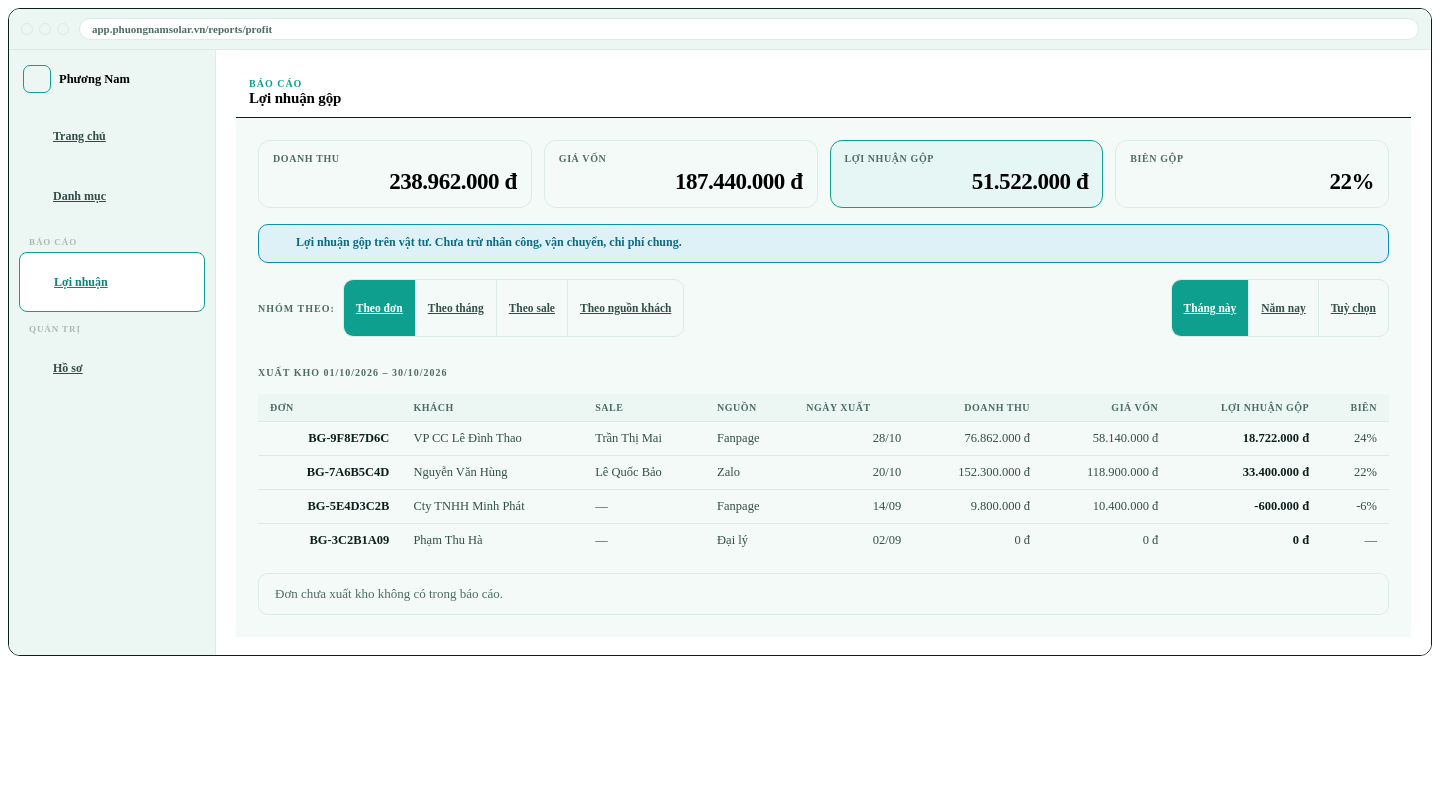
Test case: ProfitReportScreen › Năm nay sends period=year; Tuỳ chọn waits for both days then sends period=custom&from&to
Expected: the text "BG-9F8E7D6C" is shown, [258,422,401,456]
Click the link "Năm nay".
click(1284, 308)  # box [1249,280,1319,336]
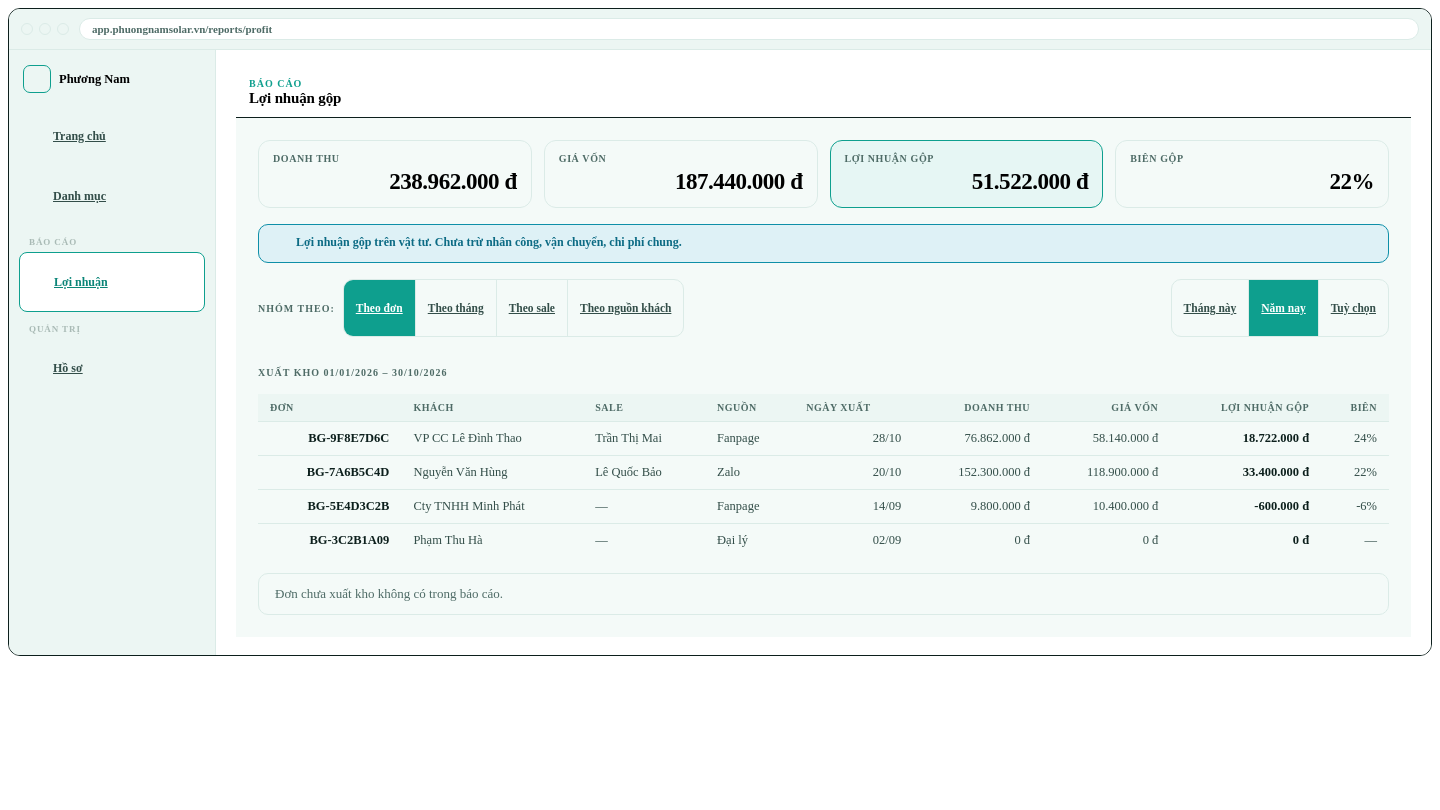
Click the link "Tuỳ chọn".
click(1353, 308)  # box [1331,302,1376,314]
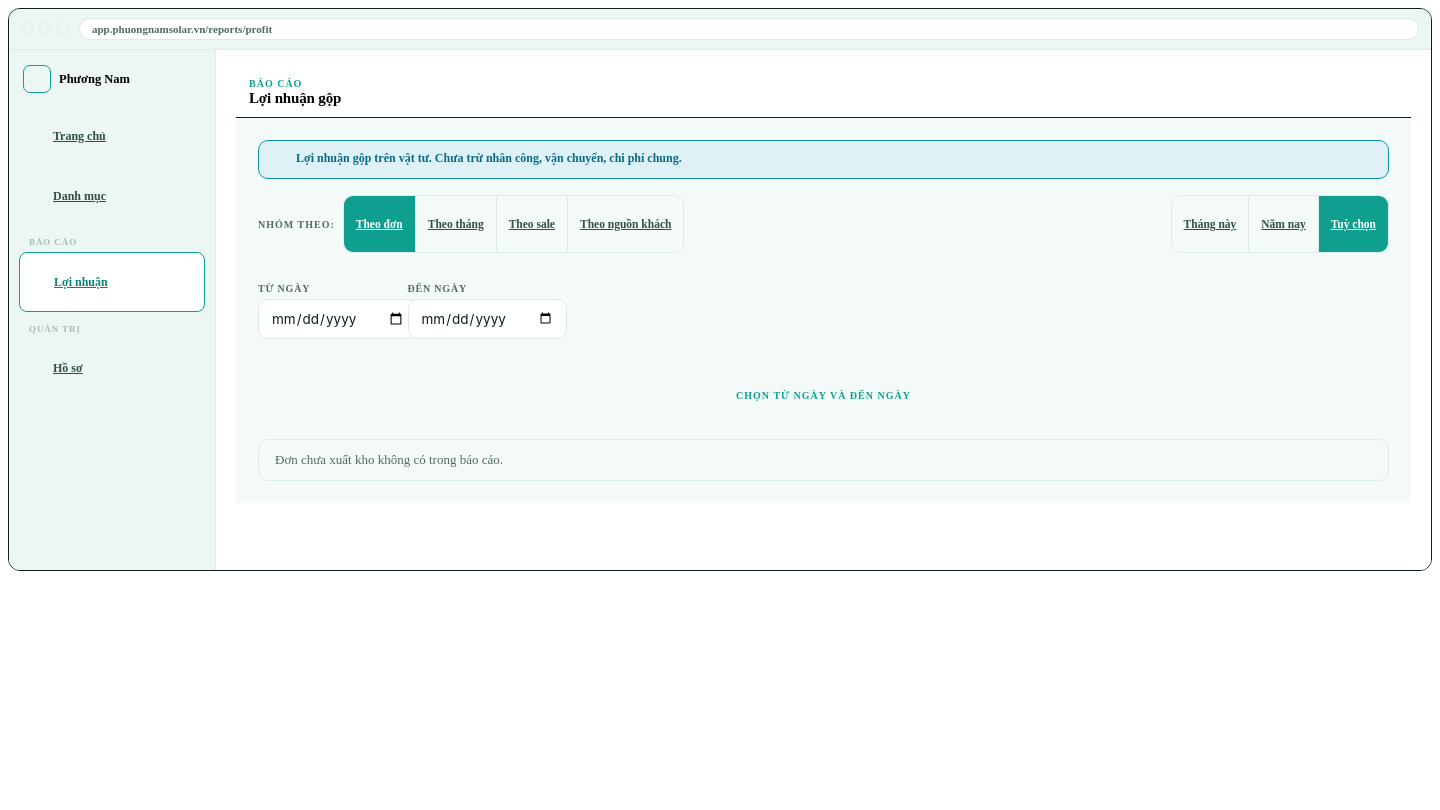
Expected: the text "Chọn từ ngày và đến ngày" is shown, [736,390,911,401]
Type "2026-07-01" into the date field labelled "Từ ngày".
click(338, 319); type("2026-07-01")  # box [258,299,418,339]
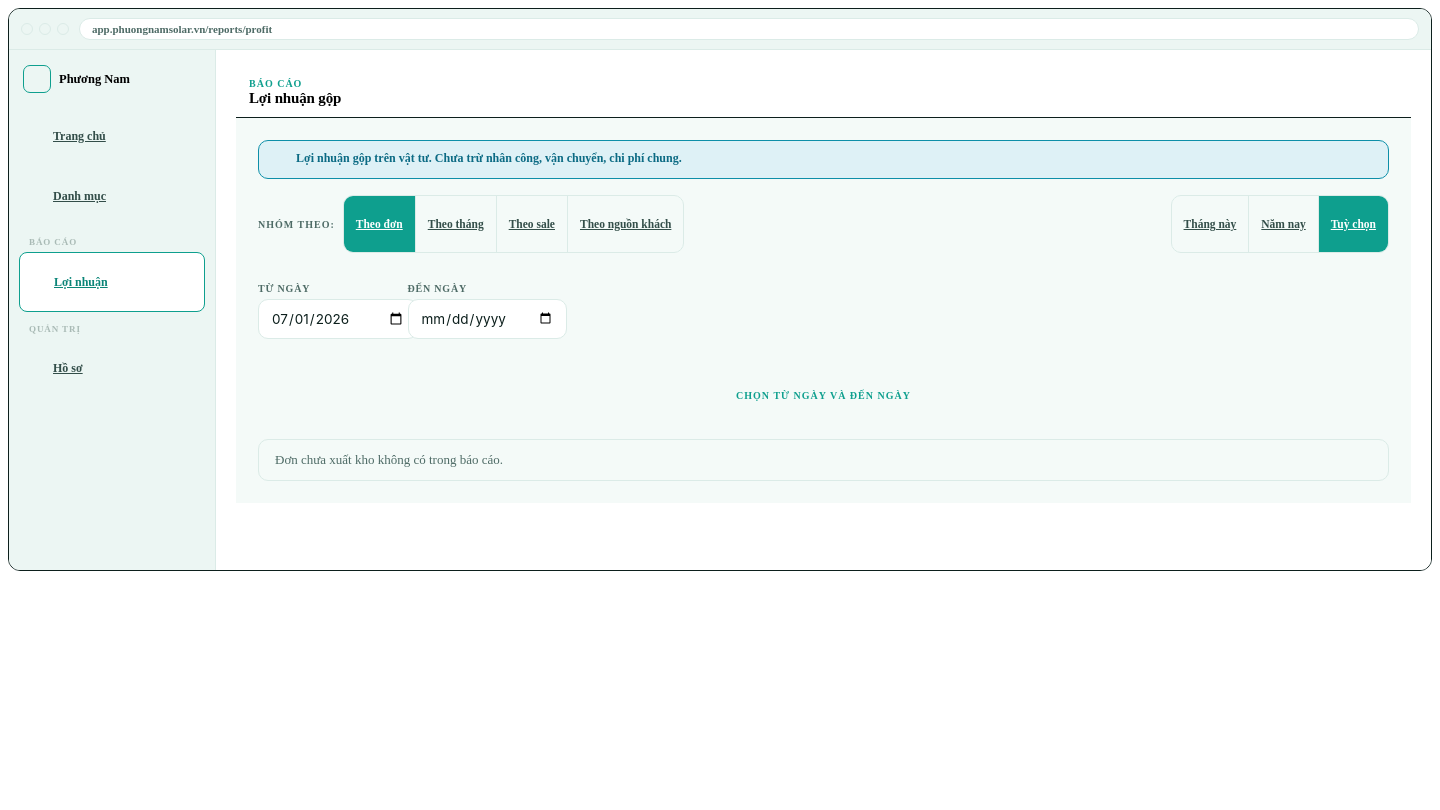
Expected: the text "Chọn từ ngày và đến ngày" is shown, [736,390,911,401]
Type "2026-07-31" into the date field labelled "Đến ngày".
click(487, 319); type("2026-07-31")  # box [408,299,567,339]
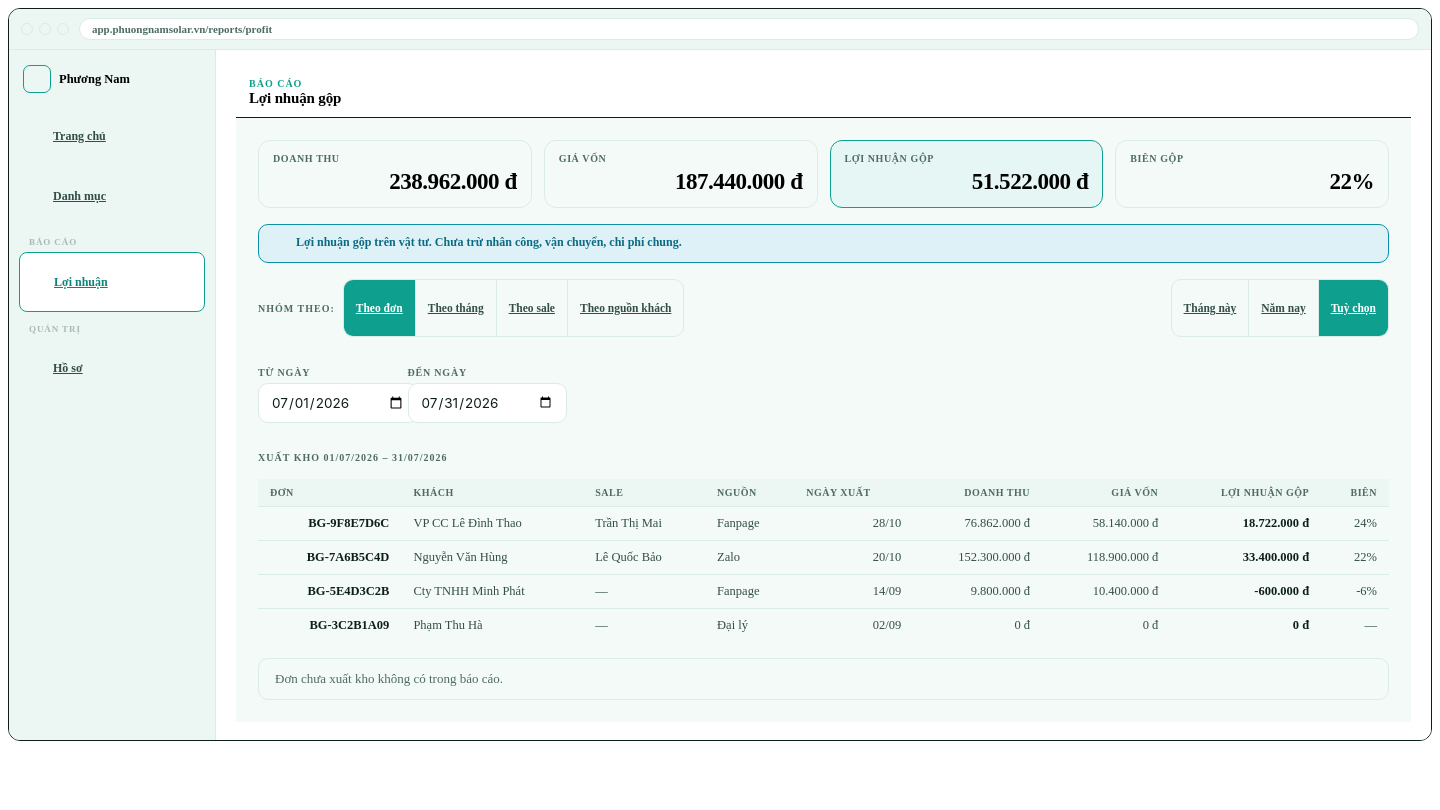
Expected: the text "BG-9F8E7D6C" is shown, [258,506,401,540]
Expected: the text "Xuất kho 01/07/2026 – 31/07/2026" is shown, [258,452,448,463]
Click the link "Theo sale".
click(532, 308)  # box [497,280,568,336]
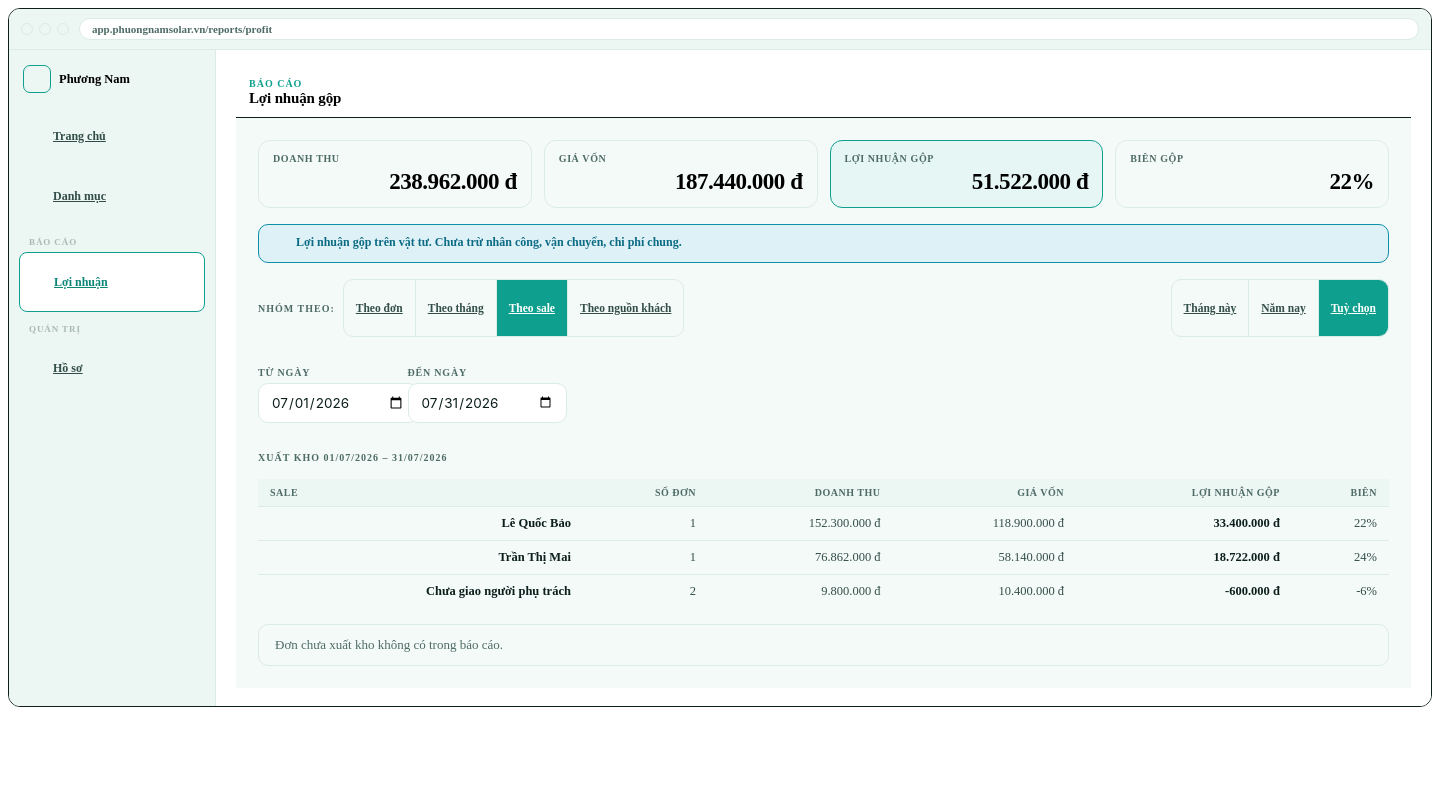
Click the link "Tháng này".
click(1210, 308)  # box [1172,280,1249,336]
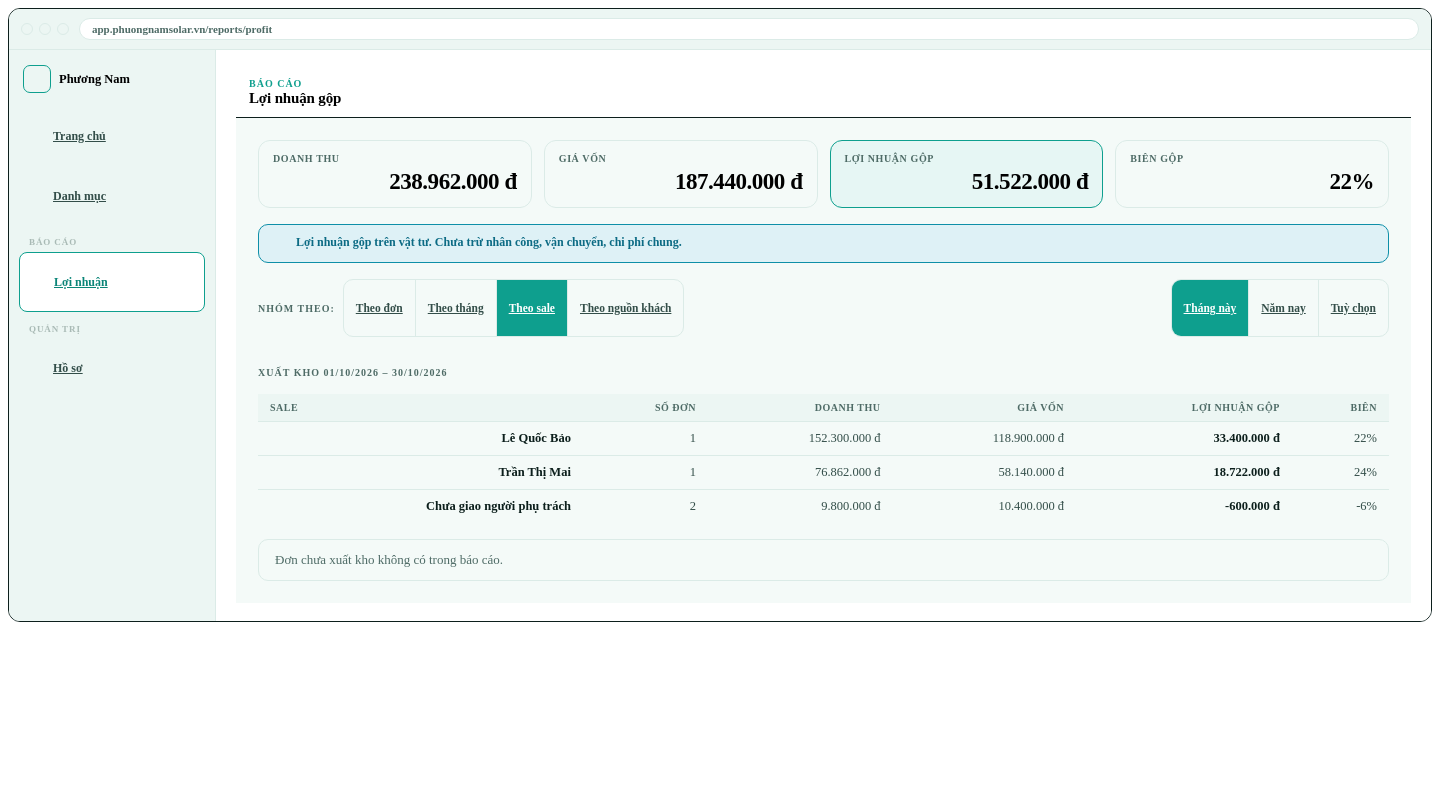
Expected: the label labelled "Từ ngày" is gone
